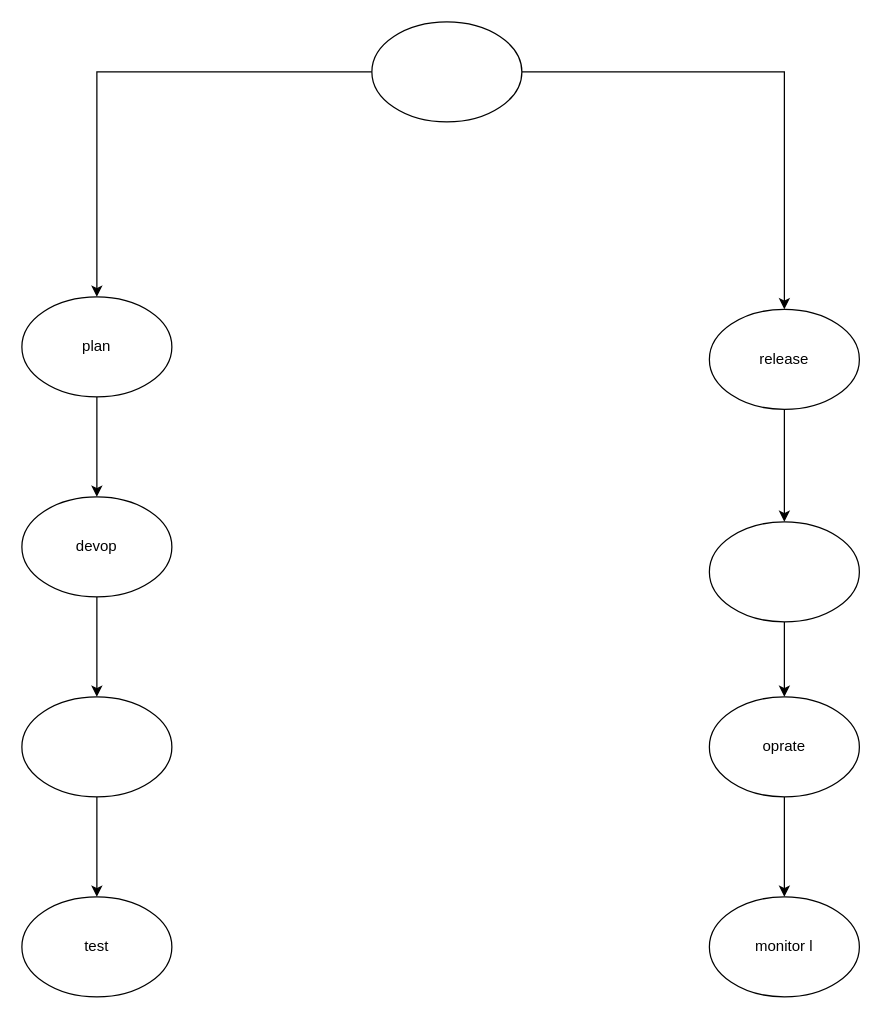
This 881x1019 diagram has some shape labels left out. The centre of each missing label's shape, as x and y in pixels:
"build" belongs at (96,746).
"depoly" belongs at (783,571).
"devops" belongs at (446,71).
